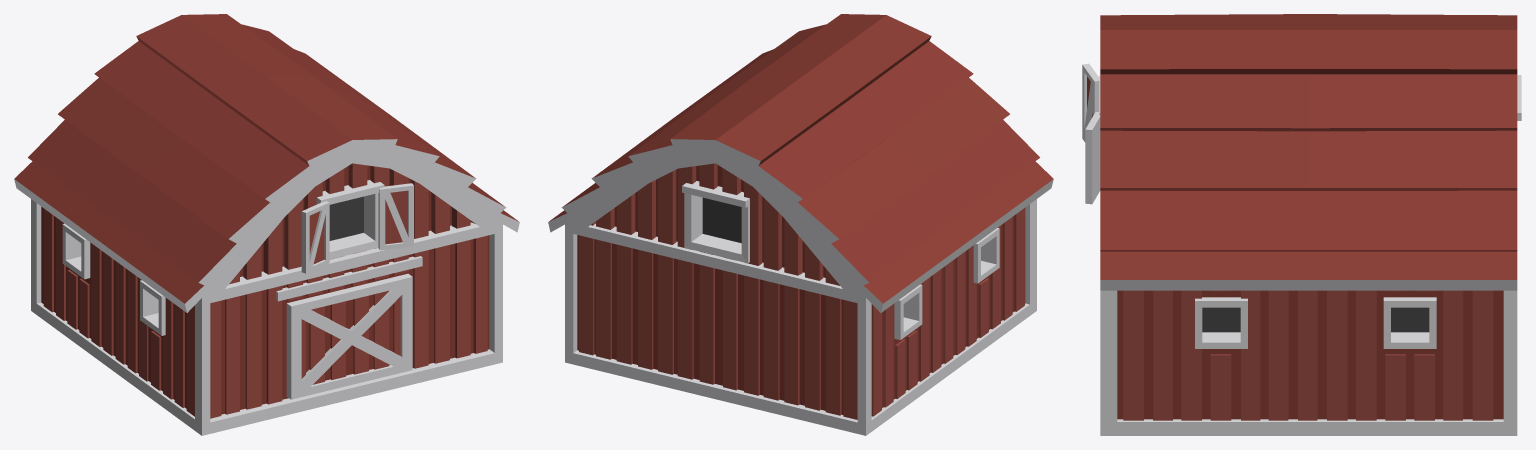
Rendered from barn 1.fbx.
The picture shows the model from 3 angles, left to right: view 1: azimuth 30°, elevation 25°; view 2: azimuth 150°, elevation 25°; view 3: azimuth 270°, elevation 25°; orthographic projection. The views are drawn at different scales.
Visible parts, largest first — view 1: Barn; view 2: Barn; view 3: Barn.
Part boxes in pixels (x1,y1,x2,y2): Barn: (14, 14, 519, 435); Barn: (548, 14, 1053, 435); Barn: (1082, 14, 1521, 435).
Size of the model in its own units: 6.23 by 4.6 by 5.79.
